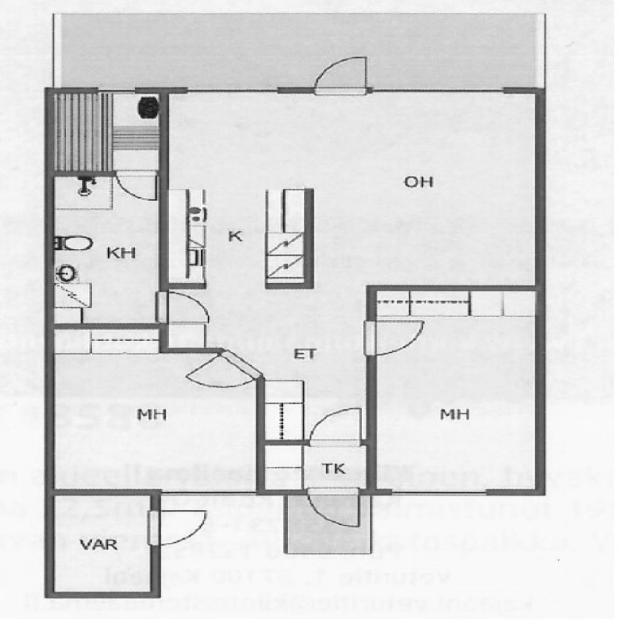door: (184, 352, 256, 392), (304, 404, 367, 449), (308, 53, 372, 97), (148, 508, 212, 548), (305, 488, 364, 531), (362, 319, 427, 358), (155, 287, 216, 326), (113, 170, 163, 203)
window: (376, 84, 508, 101), (385, 486, 491, 500), (183, 85, 284, 98)
zone: (163, 87, 545, 290), (371, 289, 537, 494), (51, 346, 260, 494), (50, 174, 164, 325), (49, 491, 155, 596), (49, 88, 164, 177)
